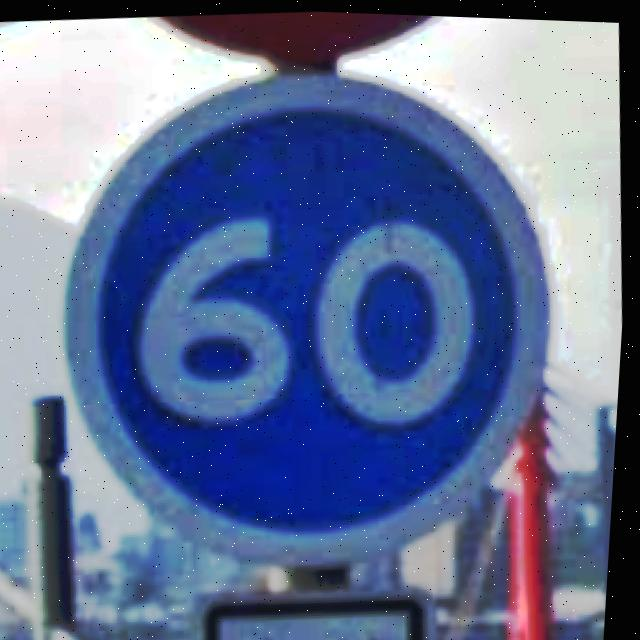min60: (31, 42, 587, 584)
